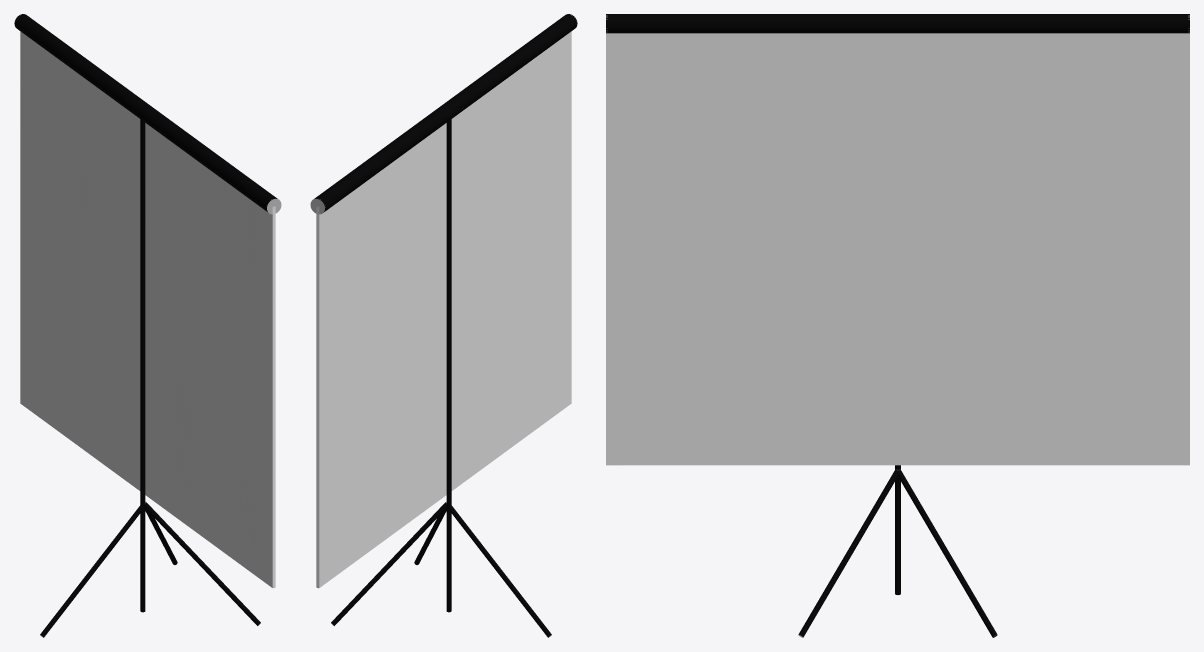
File: projecter.glb
3 renders of one model, left to right at view 1: azimuth 30°, elevation 25°; view 2: azimuth 150°, elevation 25°; view 3: azimuth 270°, elevation 25°, orthographic. The views are drawn at different scales.
Parts seen in each view (by area): view 1: Cube, Cylinder, Cylinder.001, Cylinder.002, Cylinder.003; view 2: Cube, Cylinder, Cylinder.001, Cylinder.002, Cylinder.004; view 3: Cube, Cylinder, Cylinder.003, Cylinder.004.
Part boxes in pixels (box(x1,y1,x2,y2)): Cube: box(20, 31, 275, 588); Cylinder: box(14, 14, 281, 214); Cylinder.001: box(140, 117, 145, 612); Cylinder.002: box(40, 505, 144, 637); Cylinder.003: box(144, 502, 260, 625); Cube: box(316, 31, 571, 588); Cylinder: box(310, 14, 577, 214); Cylinder.001: box(446, 117, 451, 612); Cylinder.002: box(447, 505, 551, 637); Cylinder.004: box(331, 502, 447, 625); Cube: box(606, 33, 1189, 465); Cylinder: box(606, 14, 1189, 33); Cylinder.003: box(798, 469, 897, 637); Cylinder.004: box(898, 469, 997, 637).
Size of the model in its own units: 2.45 by 6.63 by 6.
6 materials, 6 textured.
